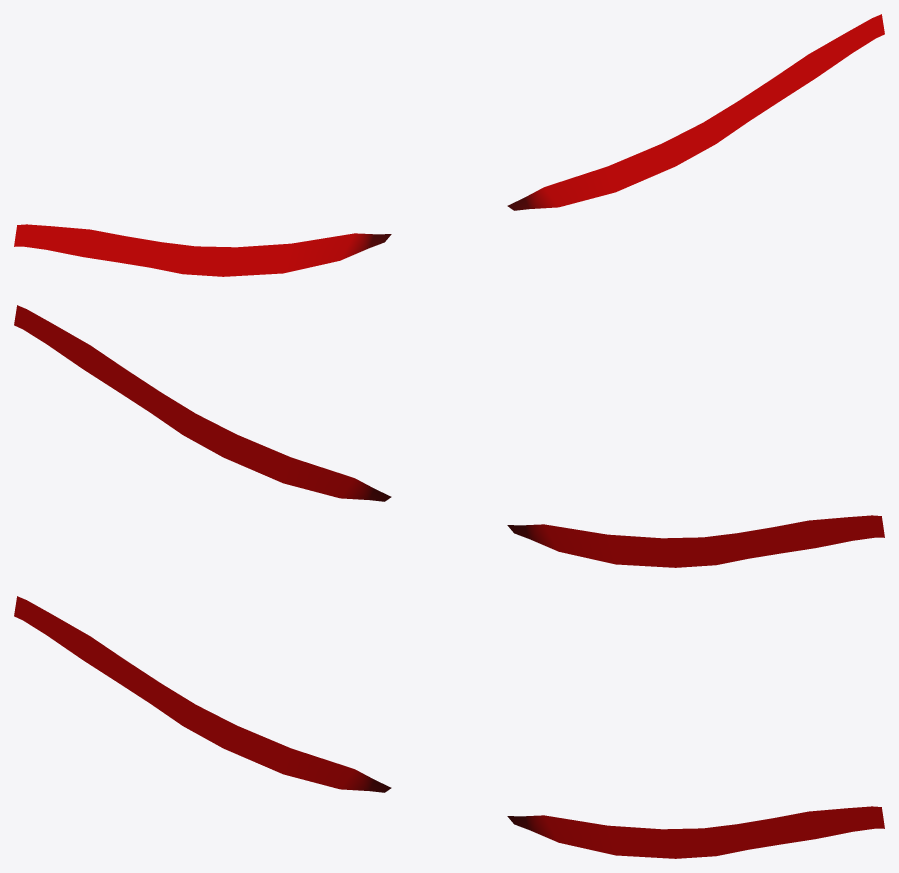
Rendered from frame161.fbx.
3 views of the same model, one above another, from view 1: azimuth 30°, elevation 25°; view 2: azimuth 150°, elevation 25°; view 3: azimuth 330°, elevation 25° (orthographic).
Parts seen in each view (by area): view 1: MaterialLayer; view 2: MaterialLayer; view 3: MaterialLayer.
Part boxes in pixels (bbox=[...]): MaterialLayer: bbox=[14, 14, 884, 276]; MaterialLayer: bbox=[14, 305, 884, 567]; MaterialLayer: bbox=[14, 596, 884, 858].
Size of the model in its own units: 1499 by 188 by 0.
